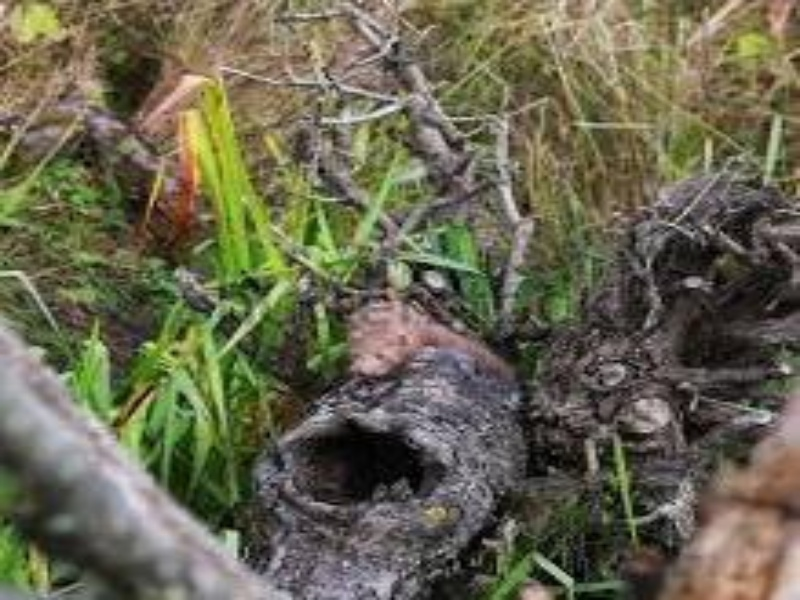minkish: (341, 298, 516, 384)
